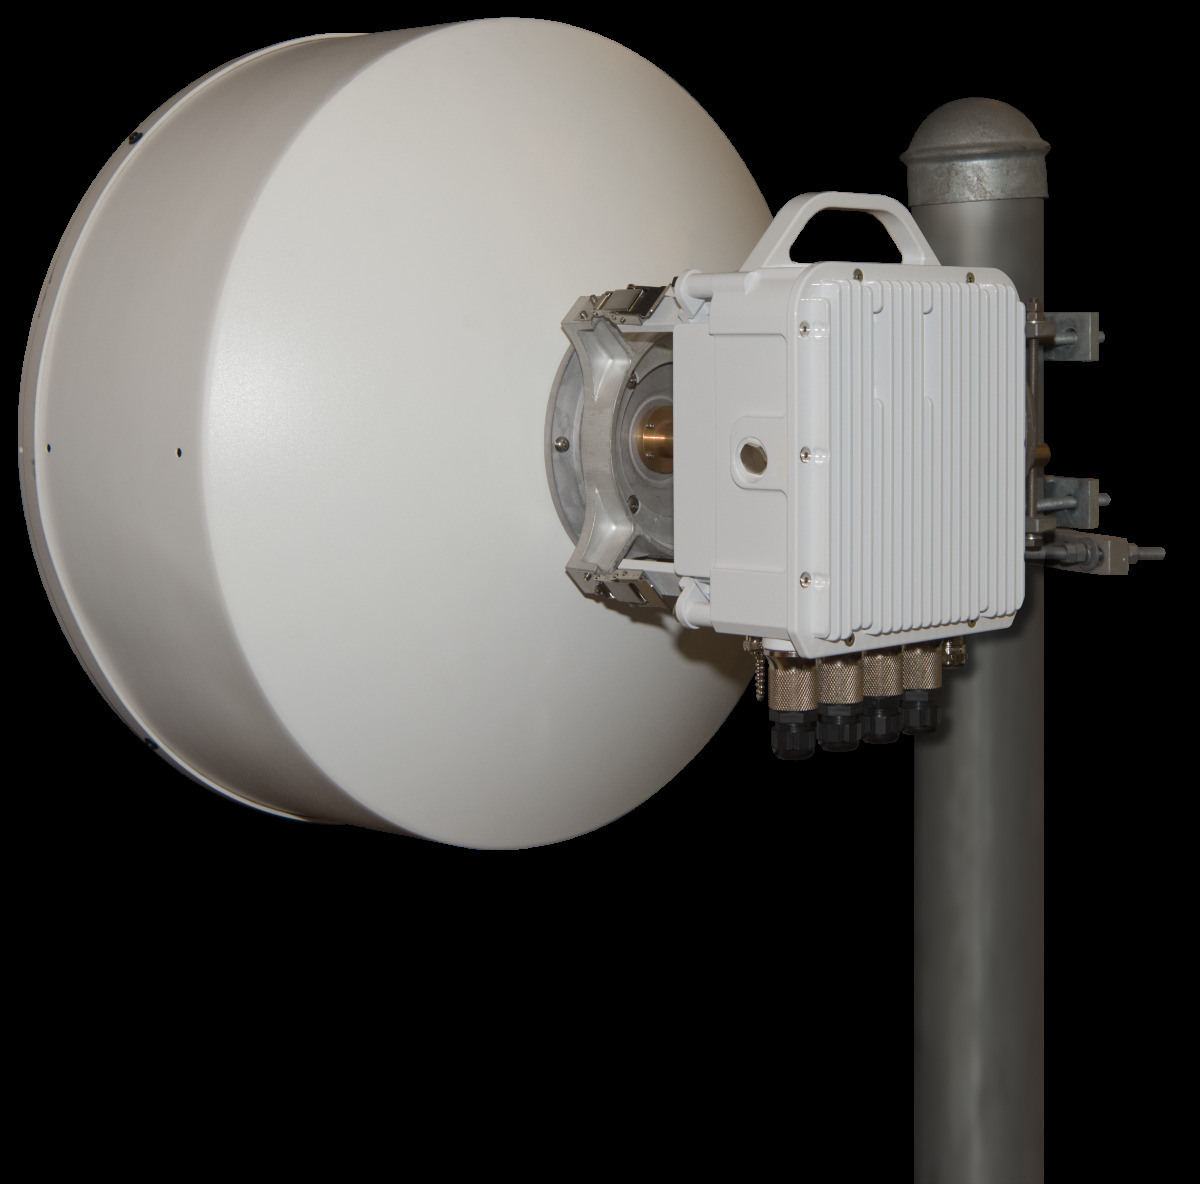ba: (28, 16, 998, 994)
